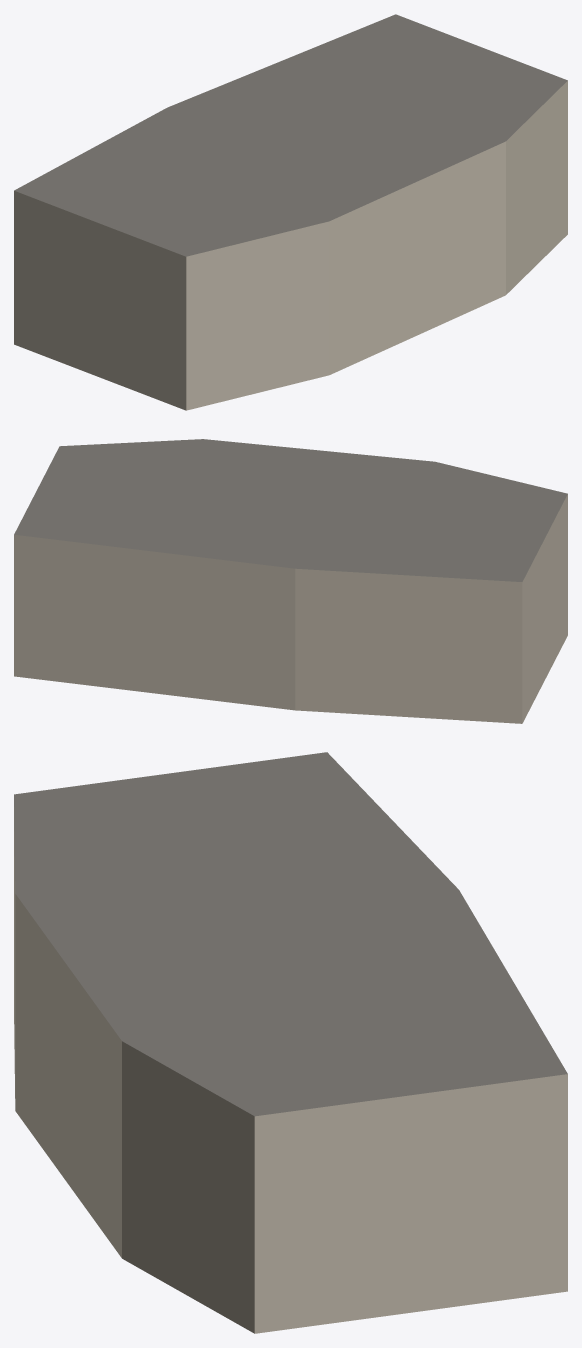
3 views of the same model, one above another, from view 1: azimuth 30°, elevation 25°; view 2: azimuth 150°, elevation 25°; view 3: azimuth 270°, elevation 25° (orthographic). The views are drawn at different scales.
Visible parts, largest first — view 1: HP-w373833620; view 2: HP-w373833620; view 3: HP-w373833620.
Boxes of the visible parts, <box> form: HP-w373833620: <box>14,14,567,410</box>; HP-w373833620: <box>14,439,567,723</box>; HP-w373833620: <box>14,752,567,1333</box>.
Size of the model in its own units: 64.65 by 18 by 41.56.
